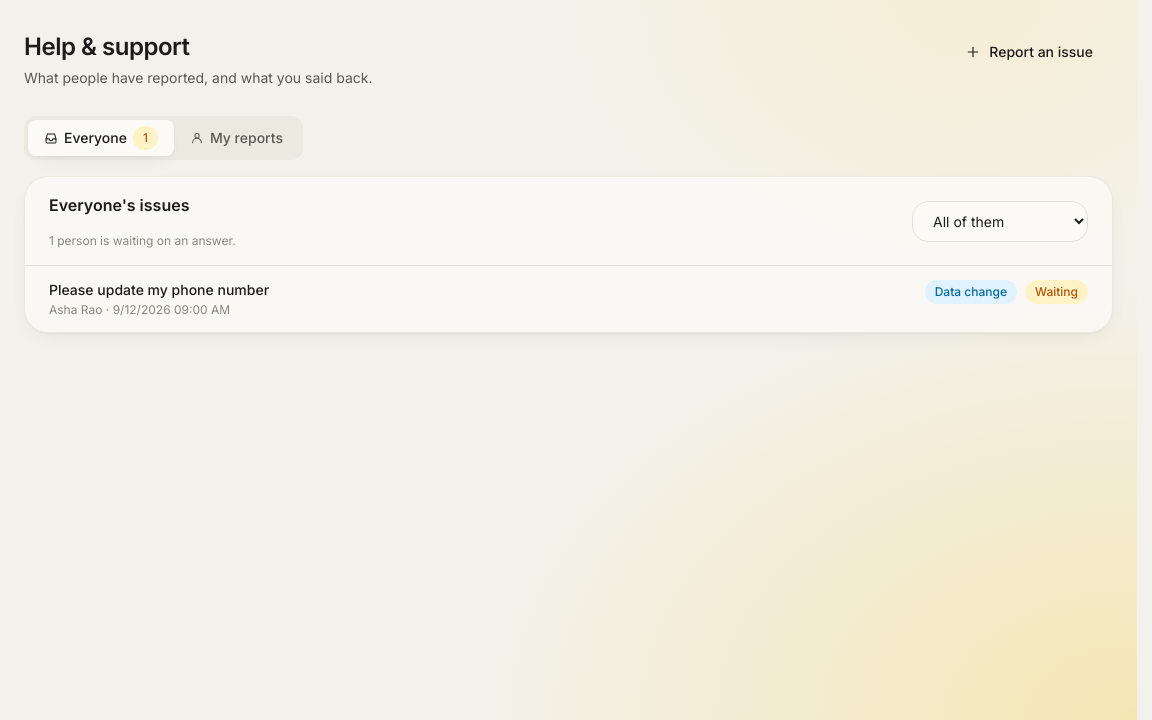
Test: asking for a detail to be changed › shows an admin what was asked, and what it is now
The image size is (1152, 720).
Click the button "update my phone" at (159, 290), box [25, 266, 1112, 332]
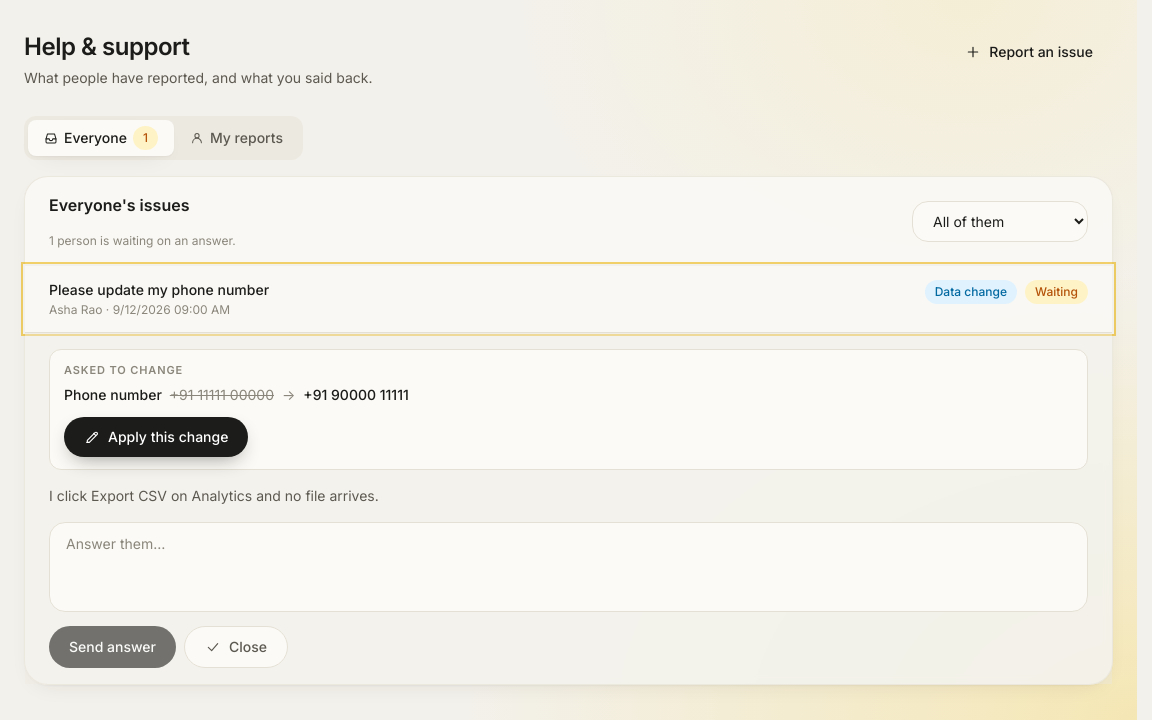
expect the text "Phone number" is shown: met, box [64, 385, 162, 405]
expect the text "+91 11111 00000" is shown: met, box [170, 385, 274, 405]
expect the text "+91 90000 11111" is shown: met, box [303, 385, 409, 405]
